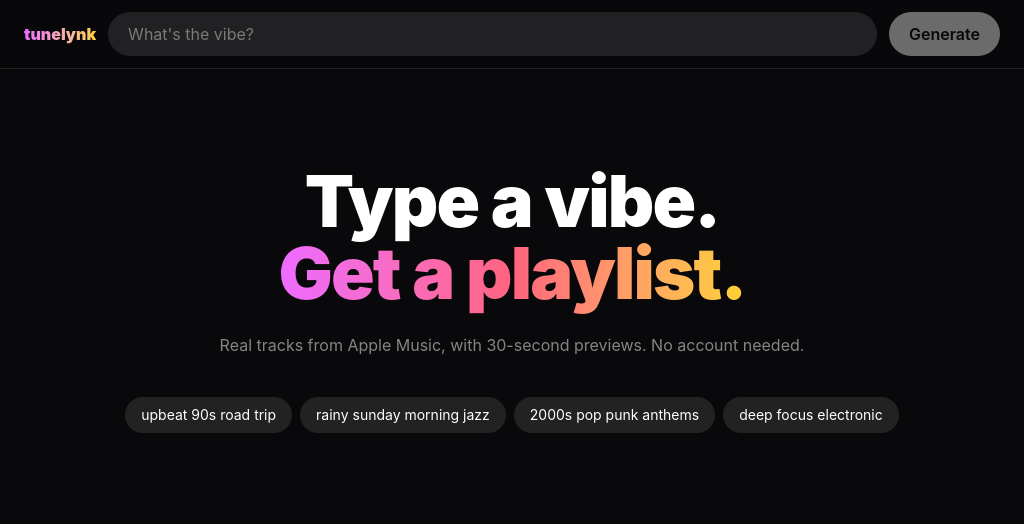
Test: Landing › links to the run already in progress on 409
The image size is (1024, 524).
Type "p" into the field named "Describe a playlist" at (492, 34), box [108,12,877,56]
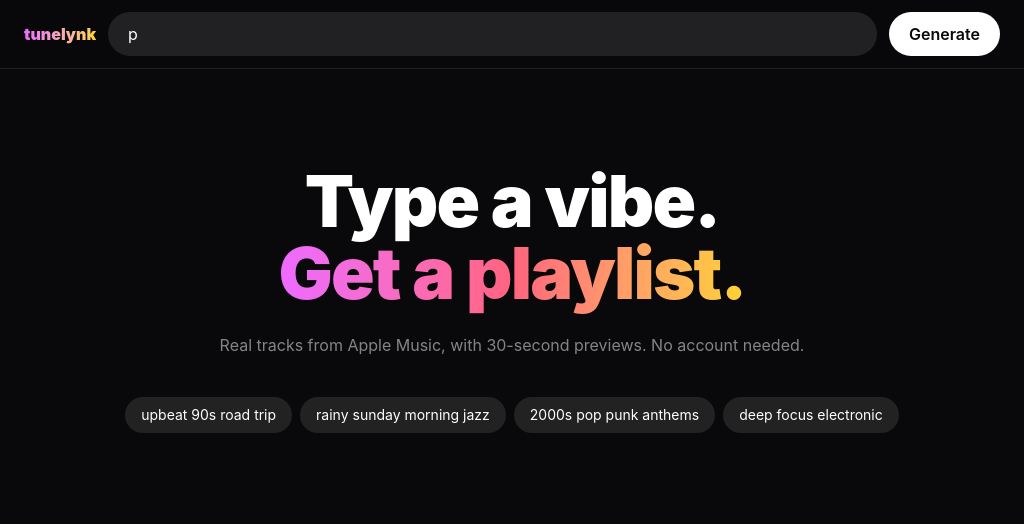
Click the button "Generate" at (944, 34), box [889,12,1000,56]
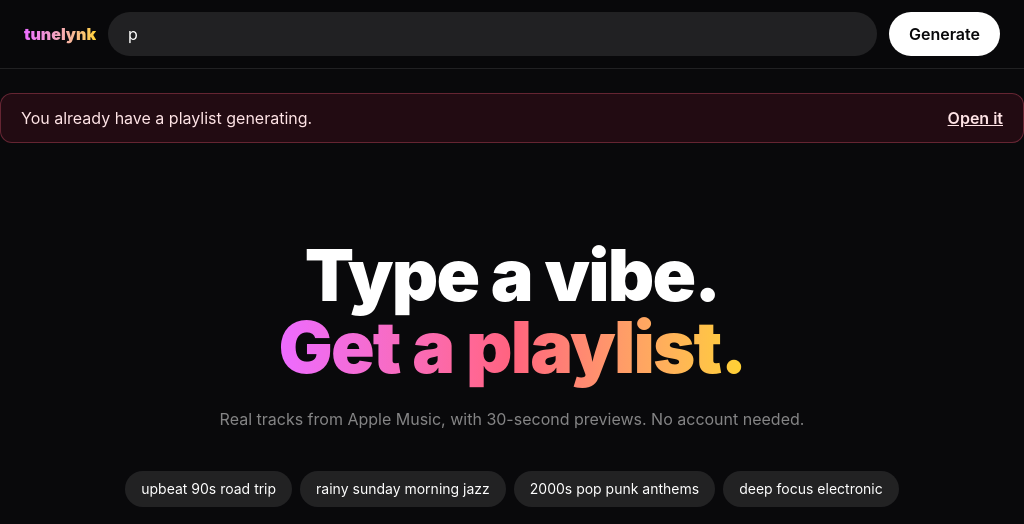
Expected: the message shows "You already have a playlist generating.", [21,108,312,128]
